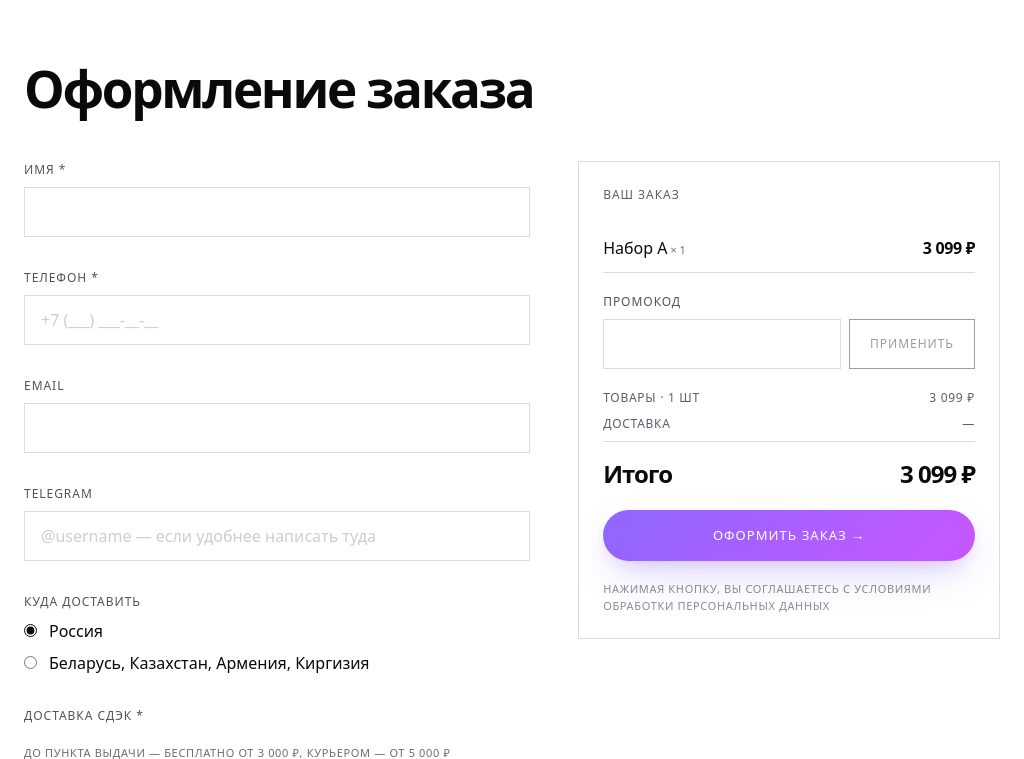
/checkout page › промокод › неизвестный код — ошибка у поля, скидки нет
Type "WRONG" into the field labelled "Промокод" at (722, 344), box [603,319,841,369]
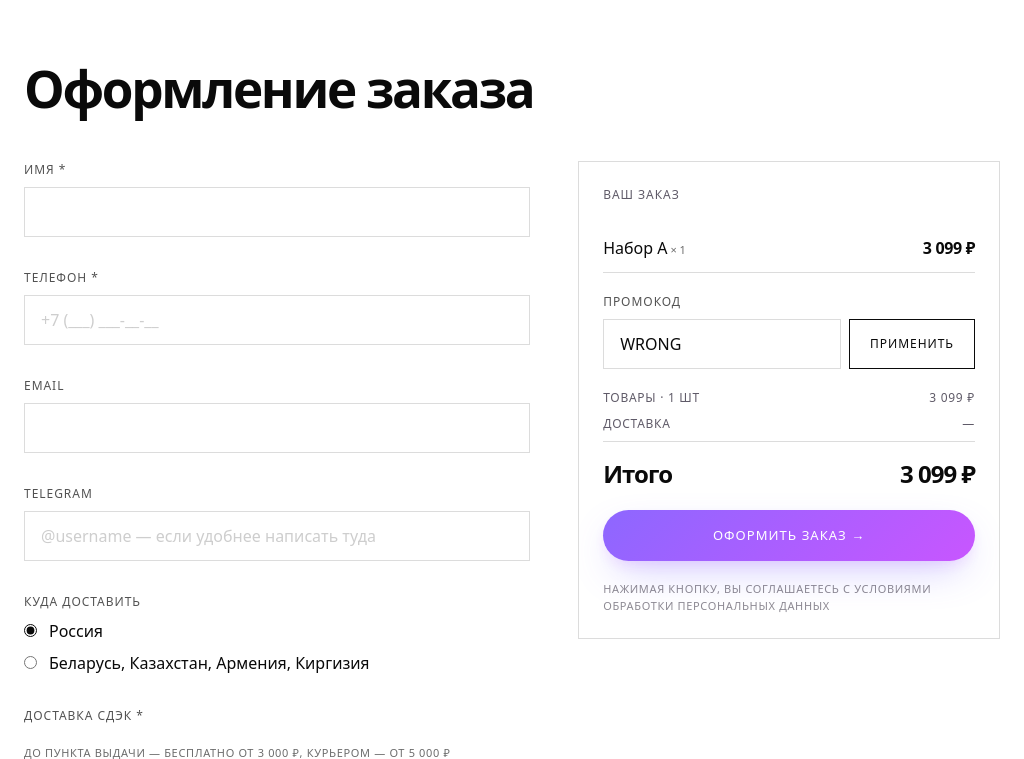
Click the button "Применить" at (912, 344), box [849,319,975,369]
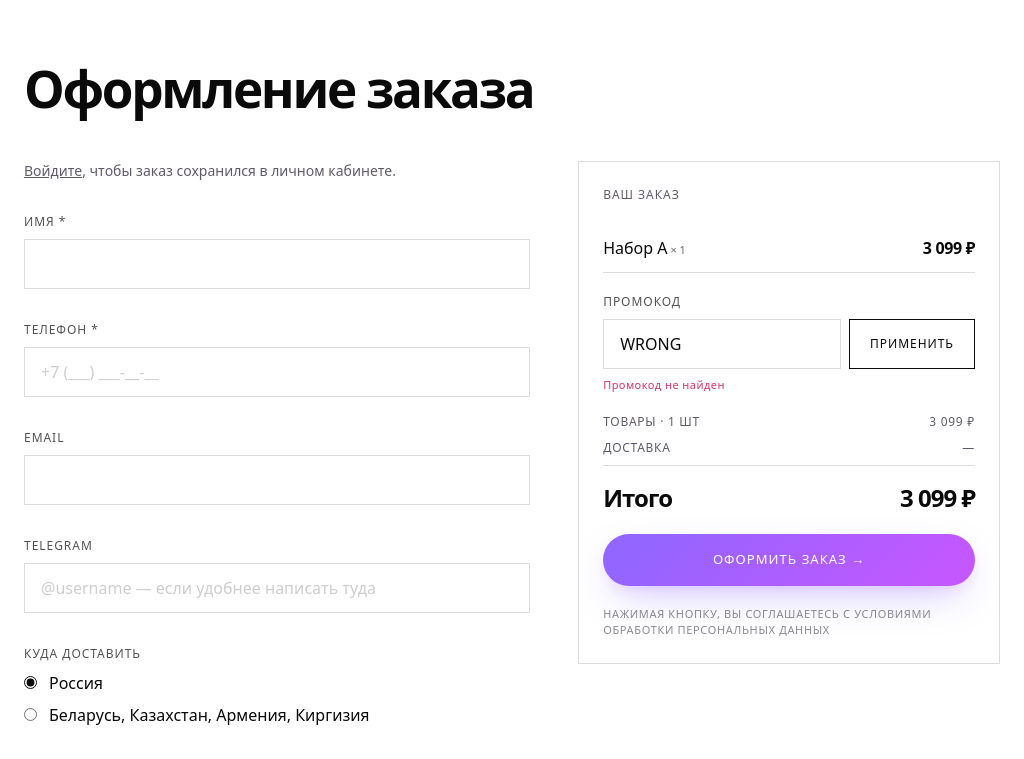
Expected: the text with test id "summary-total" shows "3 099", [900,481,975,514]
Result: the text "Промокод не найден" is shown at [603,377,725,392]
